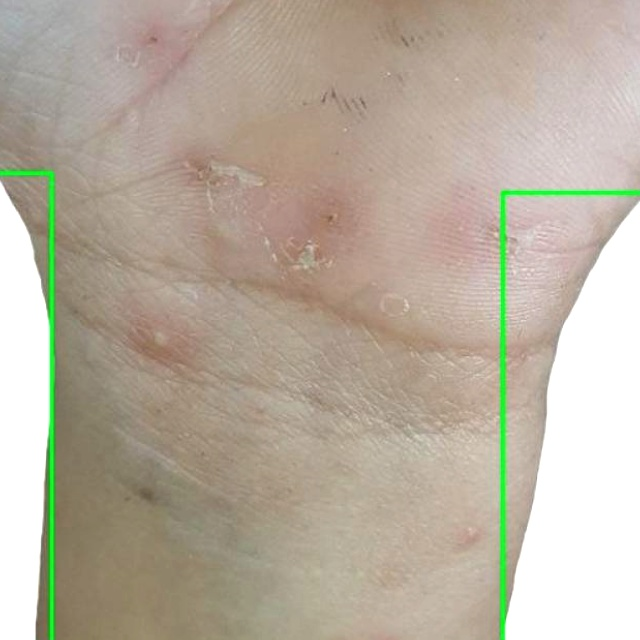Scabies: (502, 191, 639, 639), (0, 173, 51, 639)
